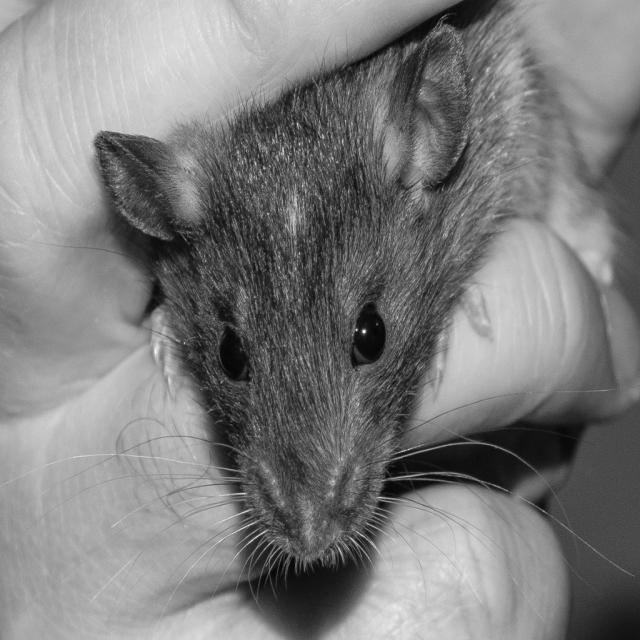rat: (0, 0, 636, 613)
